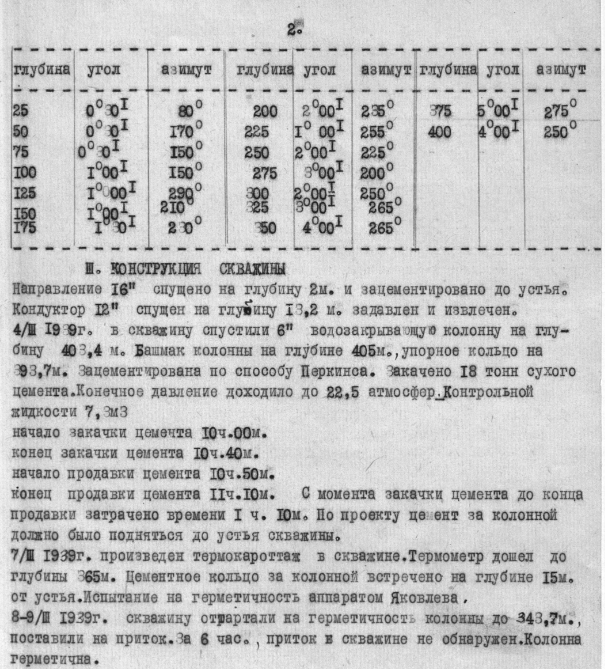Bordered: (12, 46, 601, 250)
